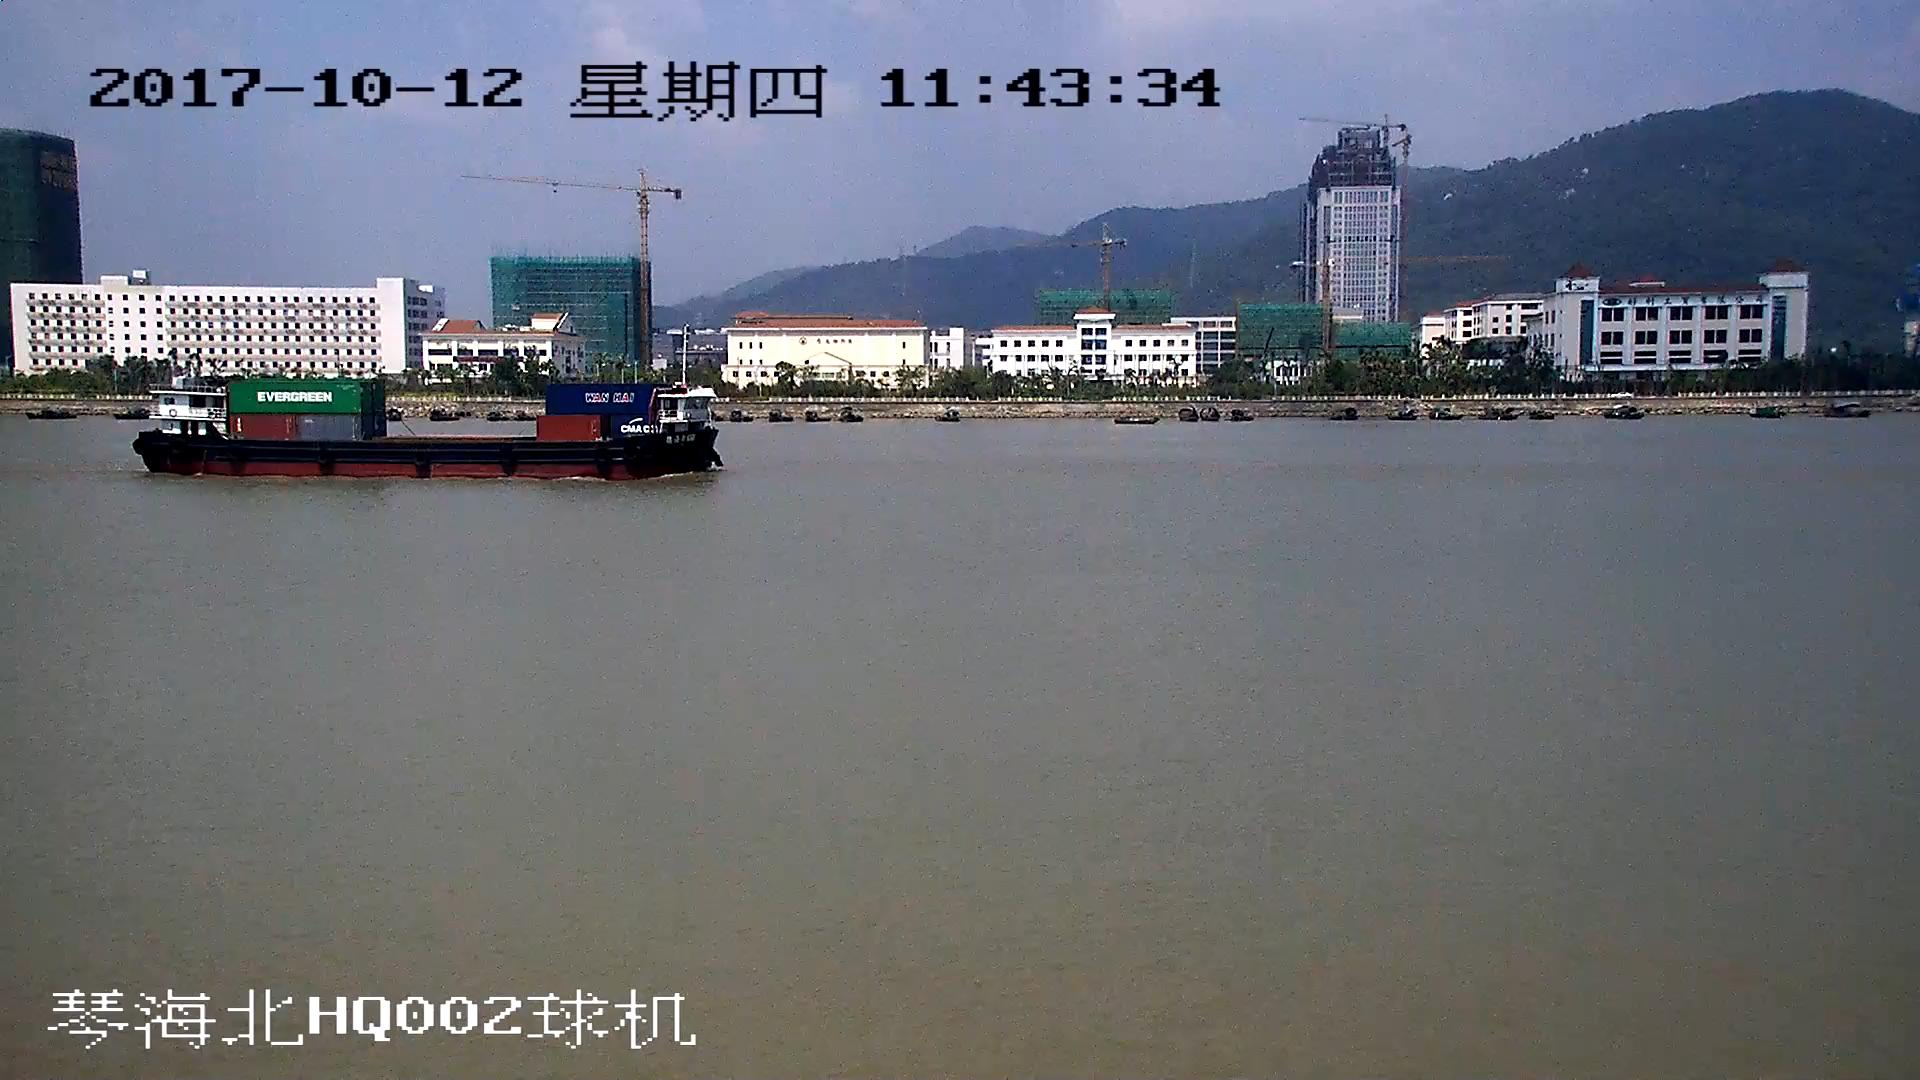container ship: (138, 376, 722, 479)
